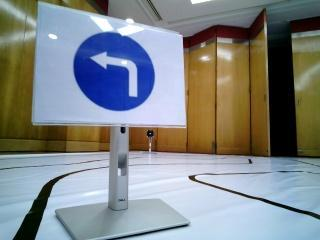left: (46, 12, 172, 122)
